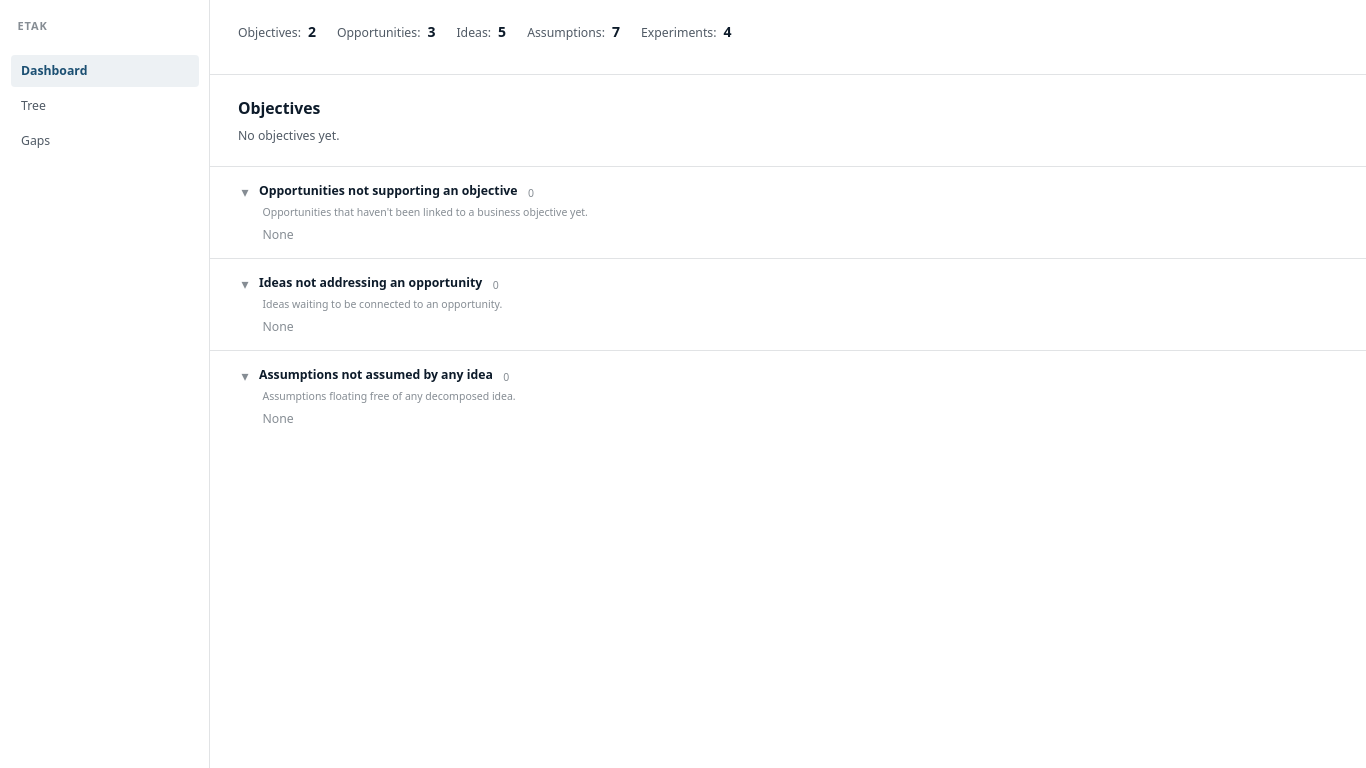
<Dashboard /> route › uses button + aria-expanded for each disclosure and toggles on click
This screenshot has width=1366, height=768.
Click the button with test id "orphan-toggle-orphan-opportunities".
click(378, 191)  # box x1=238 y1=180 x2=518 y2=202
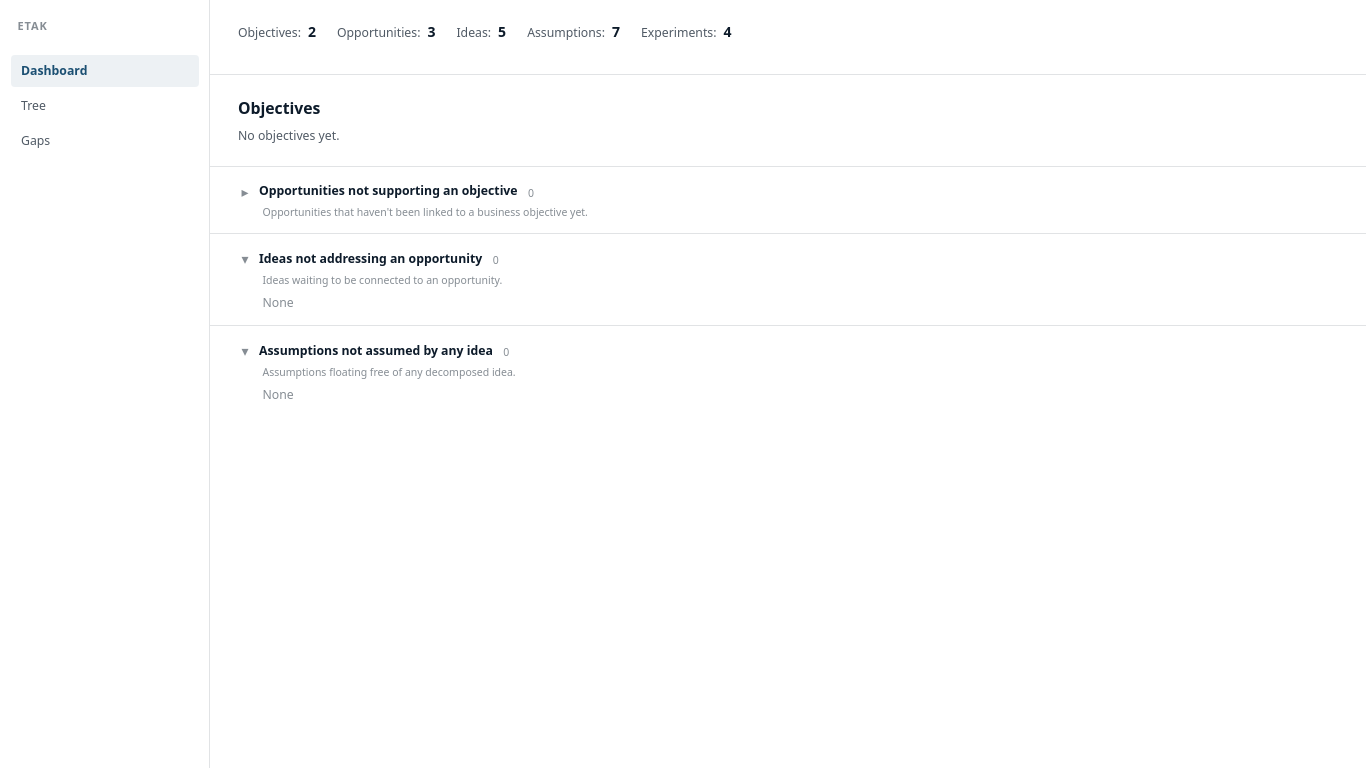
Check: the button with test id "orphan-toggle-orphan-opportunities" is collapsed
Click the button with test id "orphan-toggle-orphan-opportunities".
click(378, 191)  # box x1=238 y1=180 x2=518 y2=202
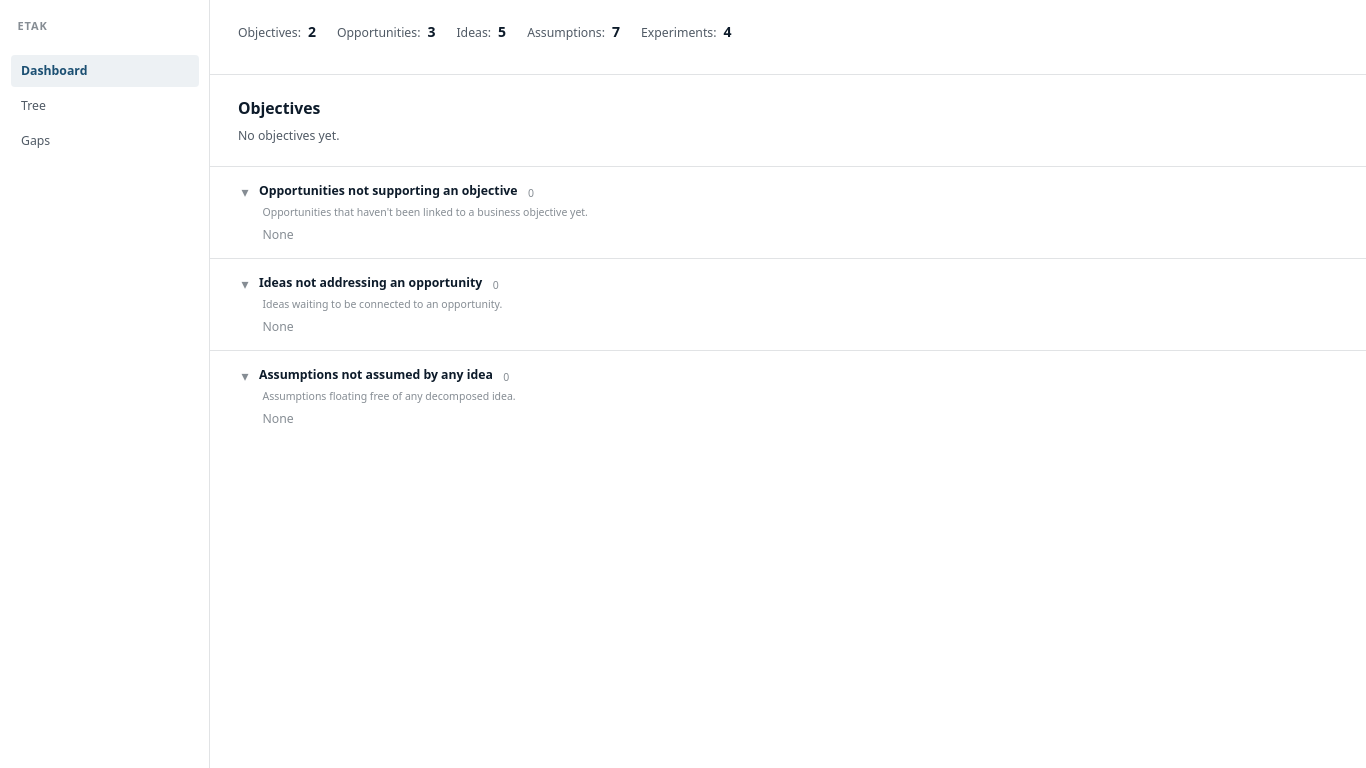
Check: the button with test id "orphan-toggle-orphan-opportunities" is expanded, box x1=238 y1=180 x2=518 y2=202
